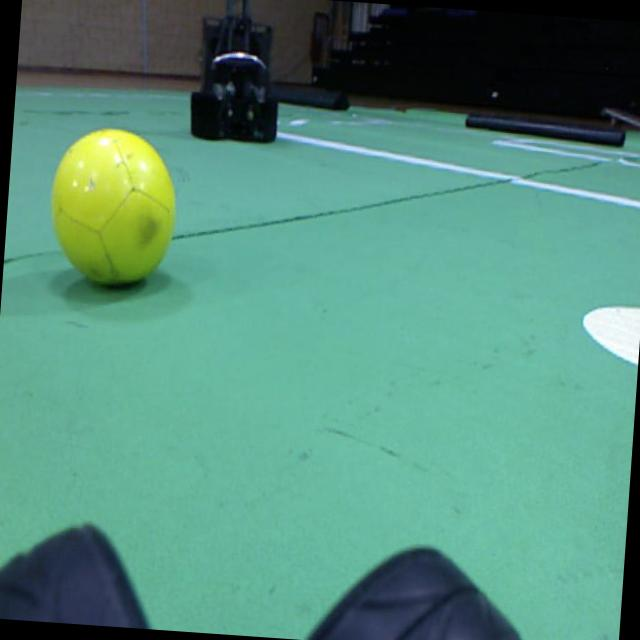ball: (51, 128, 174, 283)
robot: (190, 0, 276, 140)
